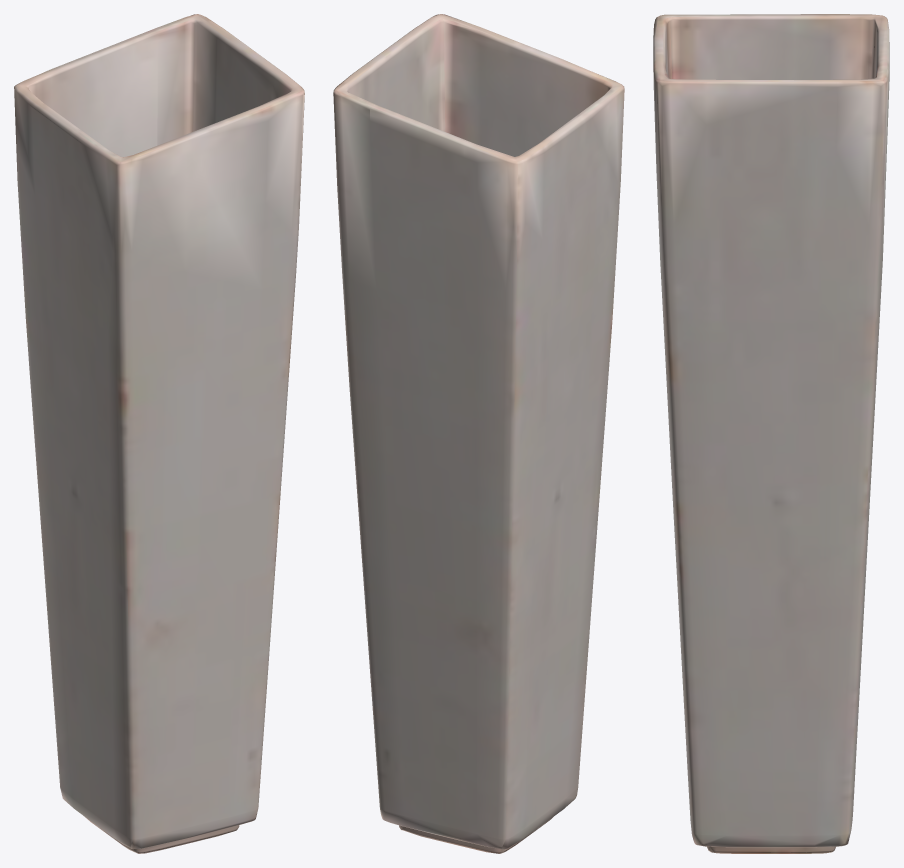
The model's file is vase3.glb.
The picture shows the model from 3 angles, left to right: view 1: azimuth 30°, elevation 25°; view 2: azimuth 150°, elevation 25°; view 3: azimuth 270°, elevation 25°; orthographic projection. The views are drawn at different scales.
Parts seen in each view (by area): view 1: ceramic_vase_03; view 2: ceramic_vase_03; view 3: ceramic_vase_03.
Part boxes in pixels (bbox=[...]): ceramic_vase_03: bbox=[14, 14, 304, 853]; ceramic_vase_03: bbox=[333, 14, 624, 853]; ceramic_vase_03: bbox=[653, 14, 889, 853].
Bounding box in the file's own units: 0.1119 × 0.4143 × 0.1117.
Materials: 1 (1 with a texture image).
